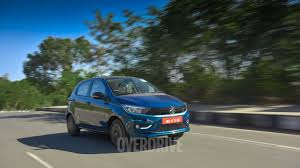Tiago: (60, 73, 196, 147)
